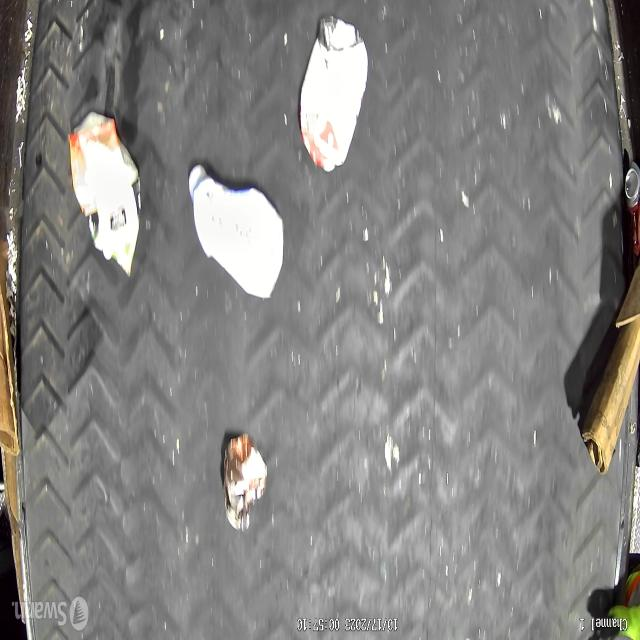can: (623, 162, 640, 258)
milk_jug: (187, 160, 284, 299)
non_white_jug: (67, 112, 142, 278)
